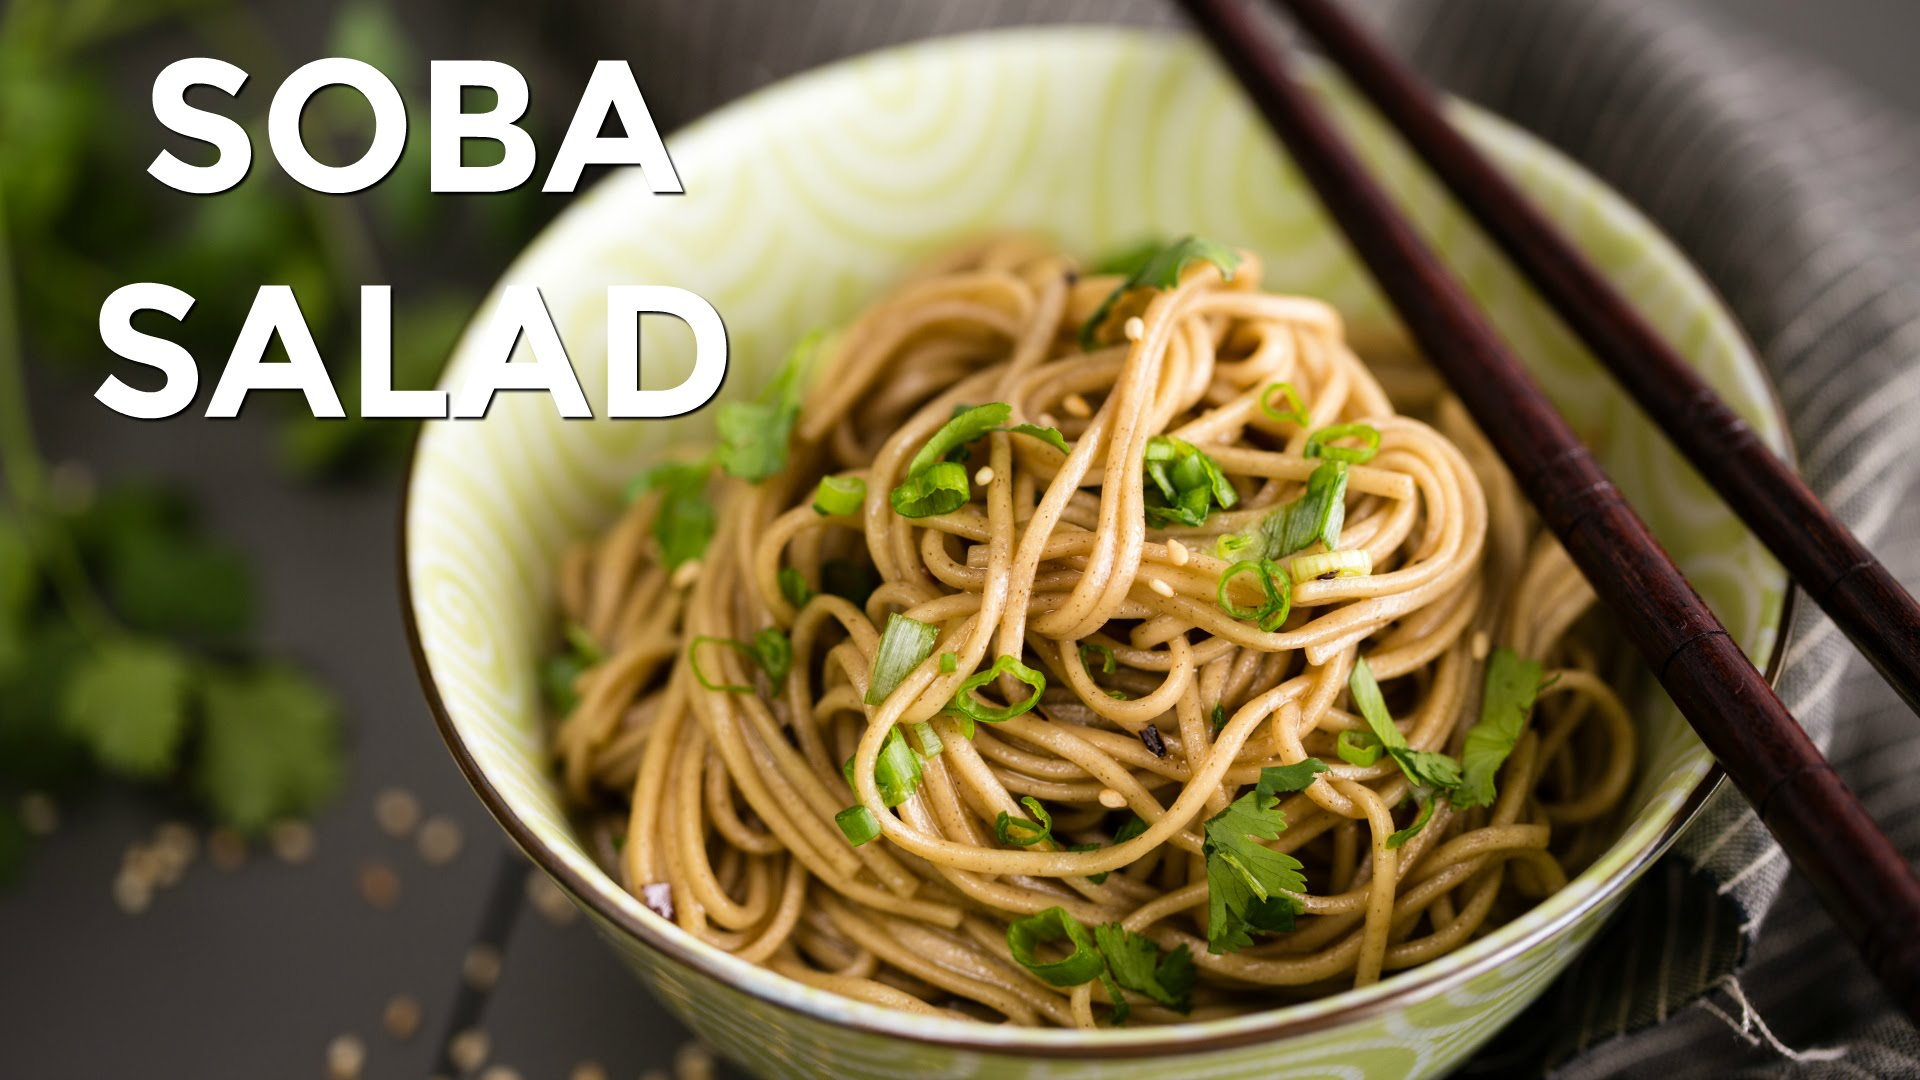Soba: (742, 309, 1514, 963)
